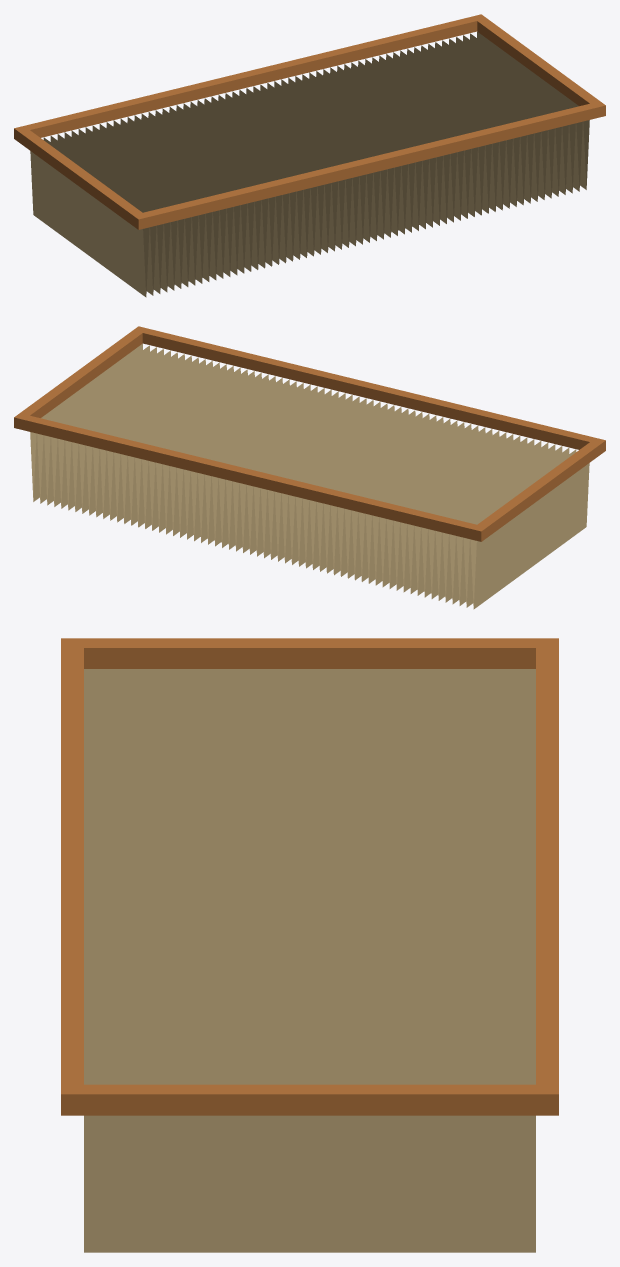
The picture shows the model from 3 angles, top to bottom: view 1: azimuth 30°, elevation 25°; view 2: azimuth 150°, elevation 25°; view 3: azimuth 270°, elevation 25°; orthographic projection. The views are drawn at different scales.
Visible parts, largest first — view 1: filter_element_c33130; view 2: filter_element_c33130; view 3: filter_element_c33130.
Boxes of the visible parts, left/top/right/bottom form: filter_element_c33130: left=14, top=14, right=605, bottom=297; filter_element_c33130: left=14, top=326, right=605, bottom=609; filter_element_c33130: left=61, top=638, right=558, bottom=1252.
Size of the model in its own units: 0.325 by 0.057 by 0.15.
